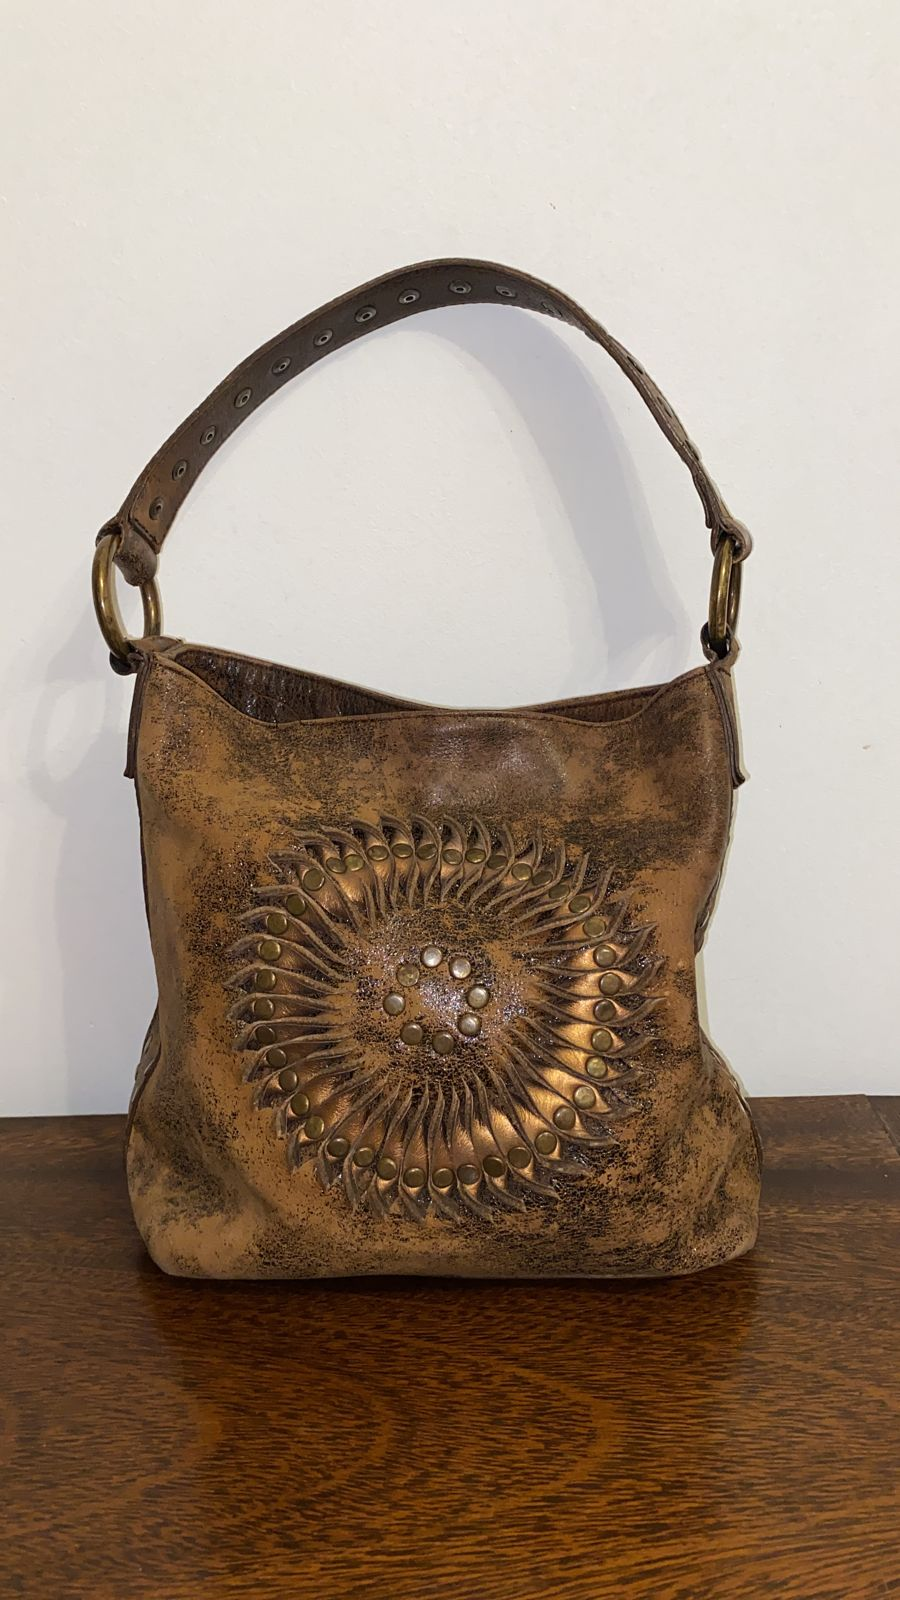cartera: (84, 242, 773, 1300)
cuero: (166, 745, 684, 1251)
